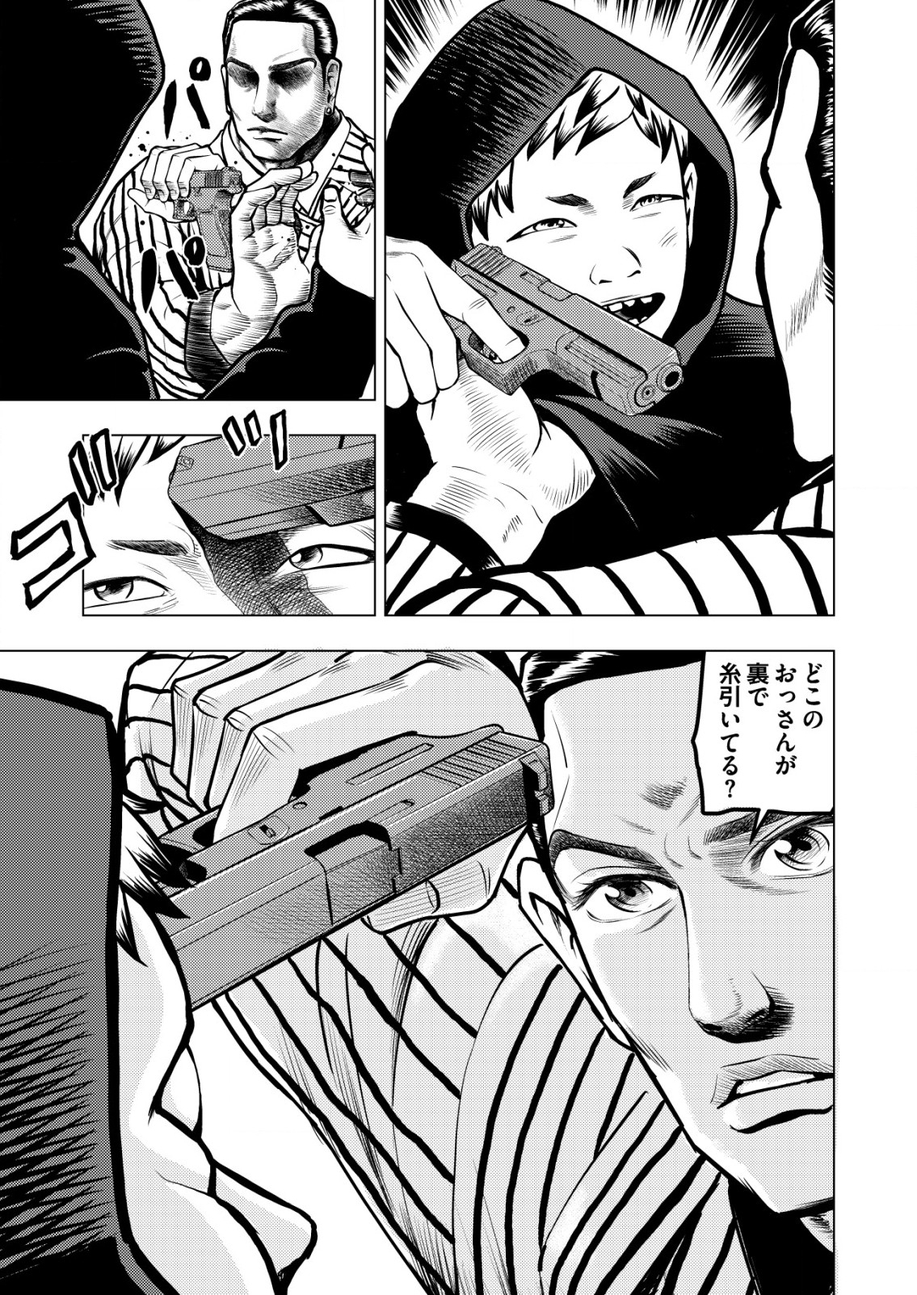bubbles: (684, 645, 839, 851)
